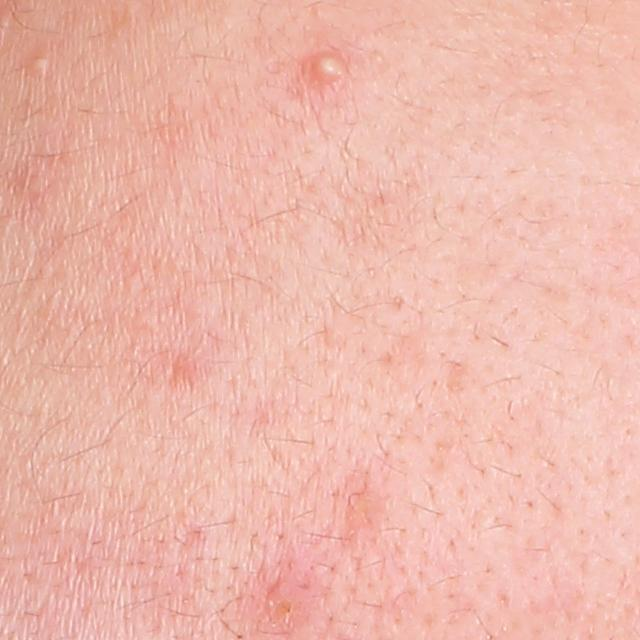comedo: (24, 49, 58, 79)
pustule: (299, 46, 350, 87)
